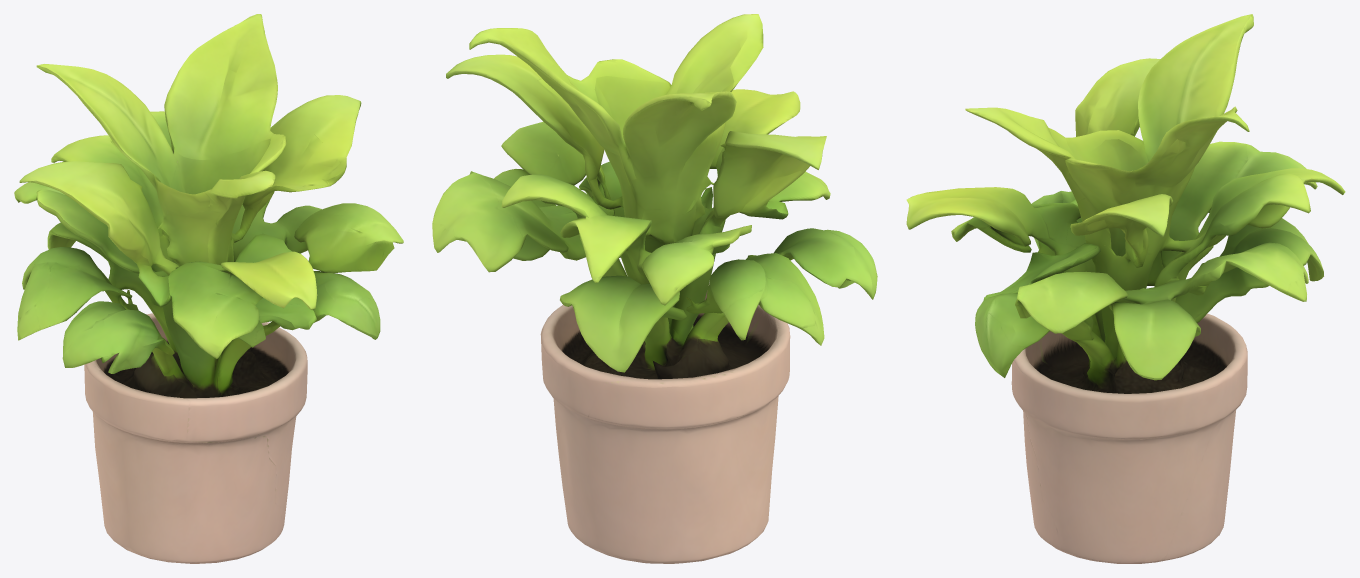
The model's file is plant_small.glb.
3 renders of one model, left to right at view 1: azimuth 30°, elevation 25°; view 2: azimuth 150°, elevation 25°; view 3: azimuth 270°, elevation 25°, orthographic. The views are drawn at different scales.
Parts seen in each view (by area): view 1: model; view 2: model; view 3: model.
Boxes of the visible parts, <box> form: model: <box>14,14,403,563</box>; model: <box>432,14,877,563</box>; model: <box>906,14,1345,563</box>.
Bounding box in the file's own units: 1.49 × 1.9 × 1.6.
1 material, 1 textured.
